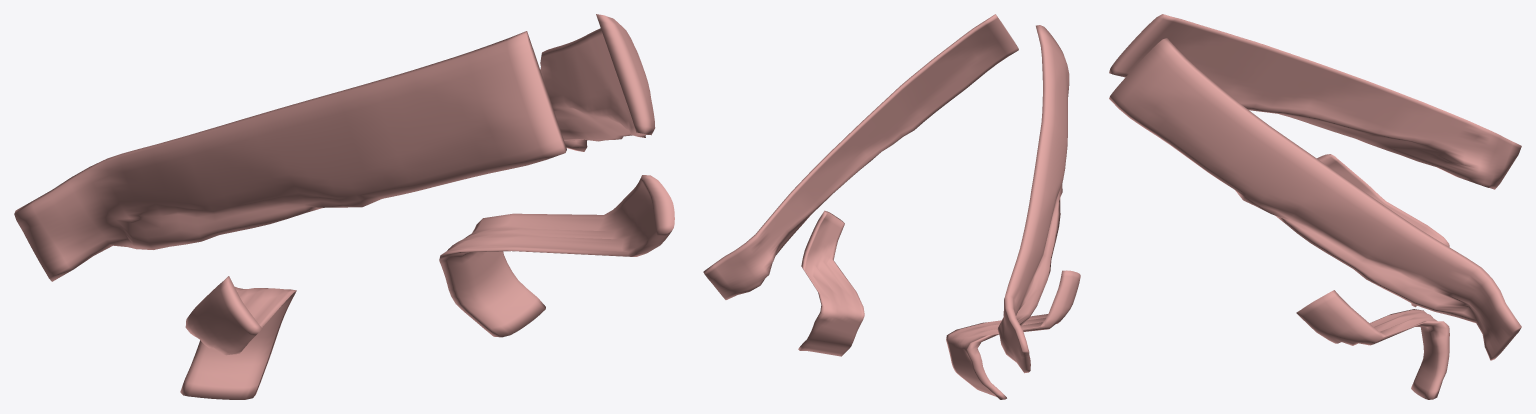
Rendered from nasalis_lod1.glb.
3 renders of one model, left to right at view 1: azimuth 30°, elevation 25°; view 2: azimuth 150°, elevation 25°; view 3: azimuth 270°, elevation 25°, orthographic. The views are drawn at different scales.
Parts seen in each view (by area): view 1: nasalis_R_lod1, nasalis_L_lod1; view 2: nasalis_L_lod1, nasalis_R_lod1; view 3: nasalis_L_lod1, nasalis_R_lod1.
Part boxes in pixels (x1,y1,x2,y2): nasalis_R_lod1: (14,31,566,399); nasalis_L_lod1: (439,14,674,337); nasalis_L_lod1: (703,14,1018,356); nasalis_R_lod1: (946,25,1080,399); nasalis_L_lod1: (1109,38,1521,399); nasalis_R_lod1: (1109,14,1521,307).
Bounding box in the file's own units: 0.0378 × 0.0305 × 0.0357.
